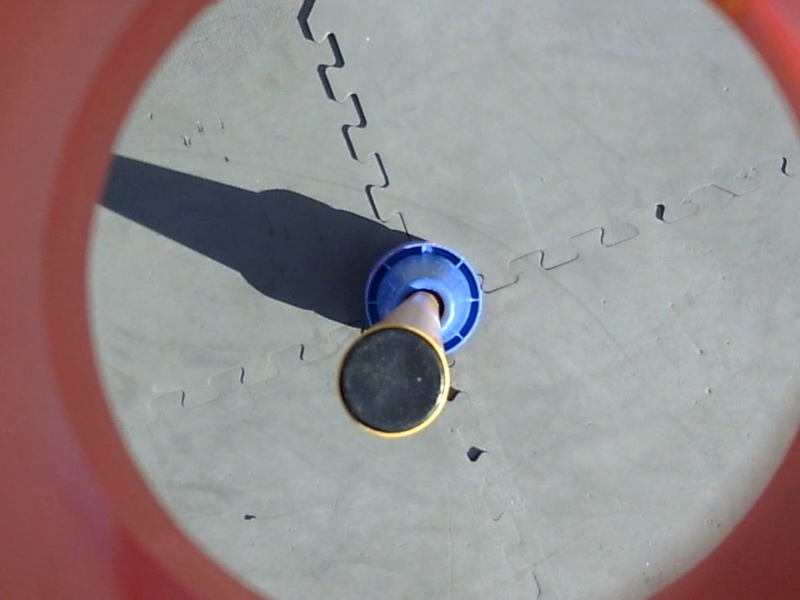tip: (331, 318, 455, 442)
